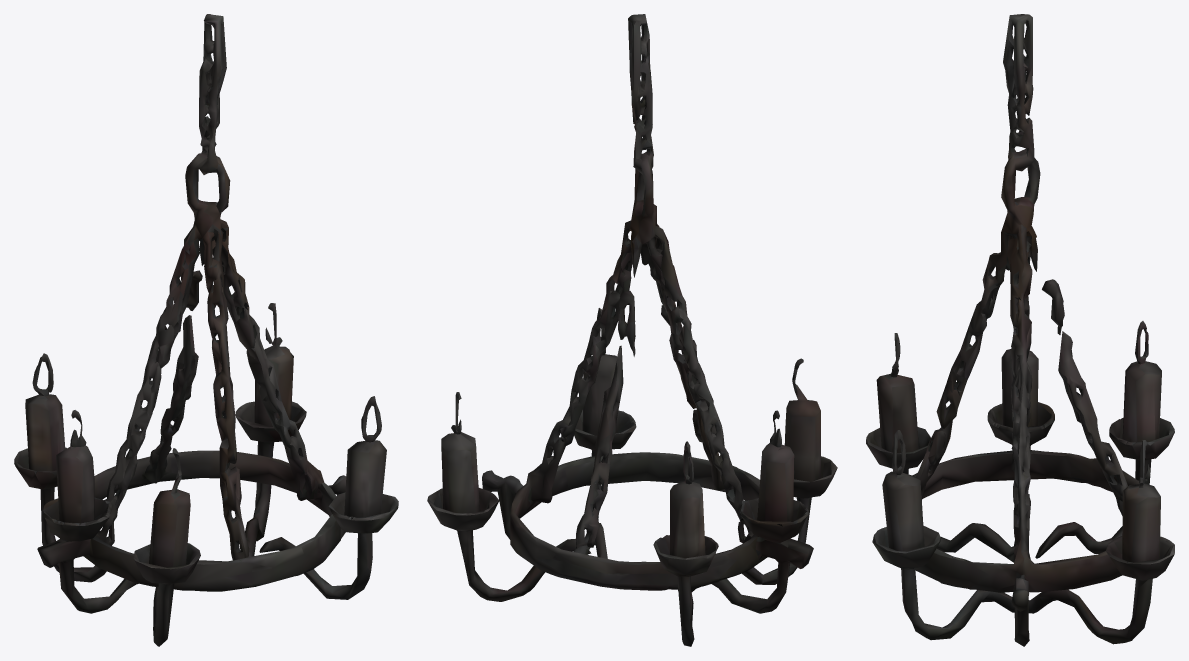
Rendered from rustic-iron-chandelier-v001.glb.
3 renders of one model, left to right at view 1: azimuth 30°, elevation 25°; view 2: azimuth 150°, elevation 25°; view 3: azimuth 270°, elevation 25°, orthographic.
Parts seen in each view (by area): view 1: rustic-iron-chandelier; view 2: rustic-iron-chandelier; view 3: rustic-iron-chandelier.
Boxes of the visible parts, x1,y1,x2,y2 form: rustic-iron-chandelier: (14,14,398,646); rustic-iron-chandelier: (427,14,837,646); rustic-iron-chandelier: (866,14,1174,646).
Size of the model in its own units: 0.5645 by 0.9388 by 0.4504.
Materials: 1 (1 with a texture image).
